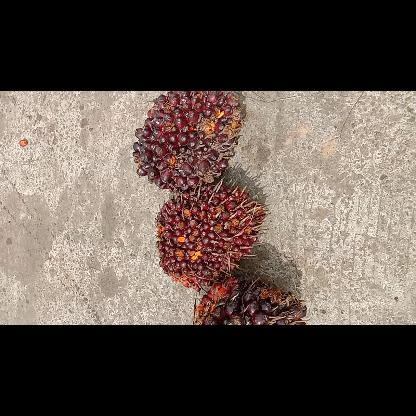Kurang masak: (134, 90, 242, 192), (155, 193, 265, 291)
TBS masak: (192, 278, 306, 324)
